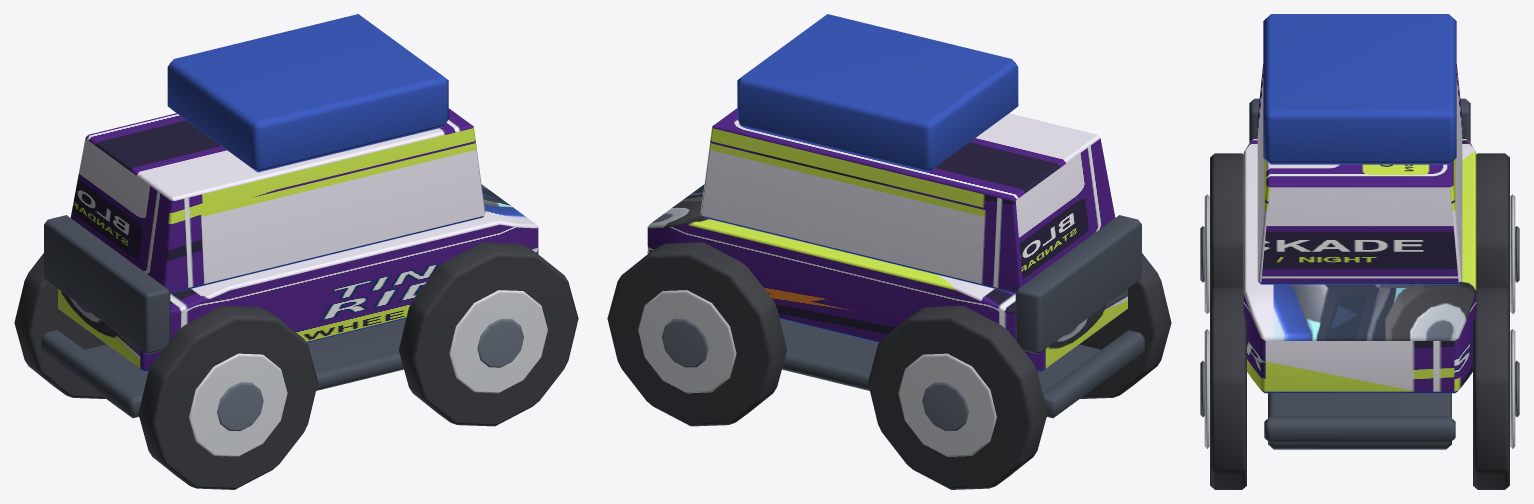
3 renders of one model, left to right at view 1: azimuth 30°, elevation 25°; view 2: azimuth 150°, elevation 25°; view 3: azimuth 270°, elevation 25°, orthographic. The views are drawn at different scales.
Parts seen in each view (by area): view 1: BW-02_cabin, armored roof canopy, BW-02_connected_shell, Tire.002, Tire, armored face guard, Rim, Rim.002, underbody, Tire.001, front bumper, Hub.002 (+1 smaller); view 2: BW-02_cabin, armored roof canopy, BW-02_connected_shell, Tire.003, Tire.001, armored face guard, Rim.001, Rim.003, underbody, Tire, front bumper, Hub.003 (+1 smaller); view 3: armored roof canopy, BW-02_connected_shell, BW-02_cabin, Tire.002, Tire.003, underbody, rear bumper, Tire, Tire.001, armored face guard, Rim.002, Rim.003 (+2 smaller).
Boxes of the visible parts, x1,y1,x2,y2 form: BW-02_cabin: [70, 108, 485, 293]; armored roof canopy: [167, 14, 448, 172]; BW-02_connected_shell: [58, 184, 538, 371]; Tire.002: [399, 242, 578, 426]; Tire: [138, 306, 317, 489]; armored face guard: [44, 215, 170, 354]; Rim: [189, 353, 287, 456]; Rim.002: [449, 290, 547, 393]; underbody: [85, 319, 405, 392]; Tire.001: [14, 253, 106, 398]; front bumper: [41, 330, 143, 418]; Hub.002: [477, 318, 523, 367]; BW-02_cabin: [700, 108, 1115, 293]; armored roof canopy: [737, 14, 1018, 172]; BW-02_connected_shell: [647, 184, 1127, 371]; Tire.003: [607, 242, 786, 426]; Tire.001: [868, 306, 1047, 489]; armored face guard: [1015, 215, 1141, 354]; Rim.001: [898, 353, 996, 456]; Rim.003: [638, 290, 736, 393]; underbody: [780, 319, 1100, 392]; Tire: [1079, 253, 1171, 398]; front bumper: [1042, 330, 1144, 418]; Hub.003: [662, 318, 708, 367]; armored roof canopy: [1263, 14, 1456, 164]; BW-02_connected_shell: [1243, 136, 1476, 393]; BW-02_cabin: [1257, 64, 1462, 284]; Tire.002: [1210, 288, 1246, 489]; Tire.003: [1473, 288, 1509, 489]; underbody: [1268, 393, 1451, 449]; rear bumper: [1264, 416, 1455, 442]; Tire: [1210, 153, 1243, 291]; Tire.001: [1476, 153, 1509, 291]; armored face guard: [1249, 98, 1470, 142]; Rim.002: [1204, 329, 1209, 448]; Rim.003: [1510, 329, 1515, 448].
Size of the model in its own units: 368 by 279 by 225.
